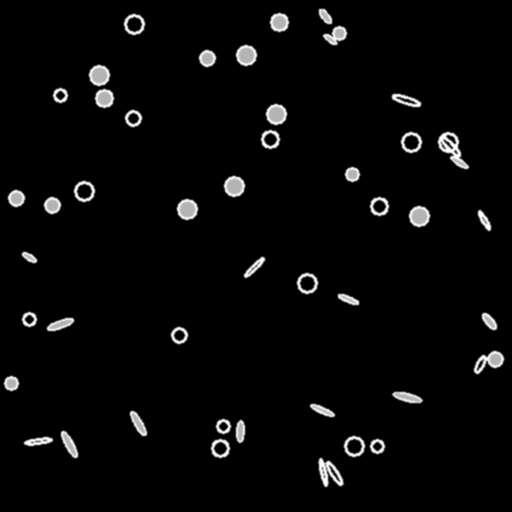pseudomonas: (438, 134, 462, 158), (324, 460, 344, 486), (60, 430, 78, 458), (243, 256, 265, 278), (129, 410, 147, 436), (392, 93, 420, 107), (47, 317, 73, 331), (393, 391, 421, 403), (310, 403, 334, 417), (481, 312, 497, 330), (477, 210, 491, 230), (337, 293, 359, 305), (318, 459, 328, 485), (450, 155, 468, 169), (318, 7, 332, 25), (473, 355, 487, 373), (25, 437, 51, 445), (21, 251, 37, 263), (322, 33, 338, 45), (236, 421, 244, 441)
synechocystis: (267, 105, 285, 123), (345, 437, 363, 455), (410, 207, 428, 225), (225, 177, 243, 195), (178, 200, 196, 218), (125, 15, 143, 33), (298, 274, 316, 292), (75, 182, 93, 200), (90, 66, 108, 84), (402, 133, 420, 151), (439, 133, 457, 151), (237, 46, 255, 64), (271, 14, 287, 30), (262, 131, 278, 147), (212, 440, 228, 456), (371, 198, 387, 214), (96, 90, 112, 106), (45, 198, 59, 212), (200, 51, 214, 65), (126, 111, 140, 125), (172, 328, 186, 342), (488, 352, 502, 366), (9, 191, 23, 205), (23, 313, 35, 325), (346, 168, 358, 180), (371, 440, 383, 452), (54, 89, 66, 101), (217, 420, 229, 432), (333, 27, 345, 39), (5, 377, 17, 389)
